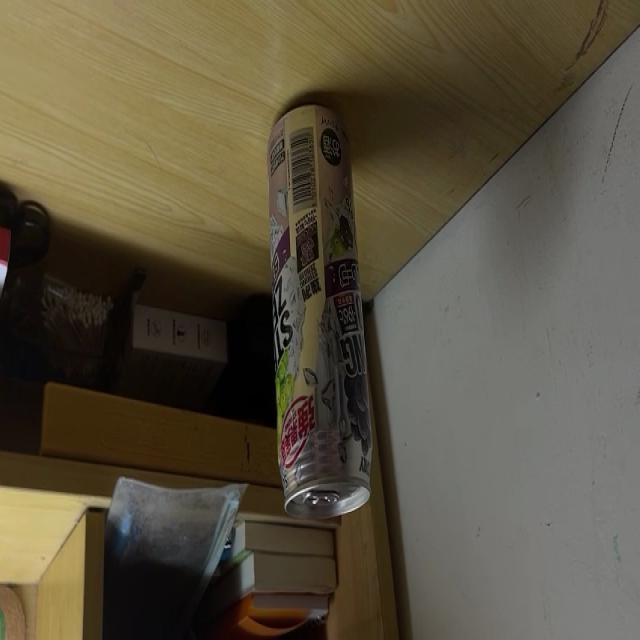Liquor: (268, 102, 371, 520)
